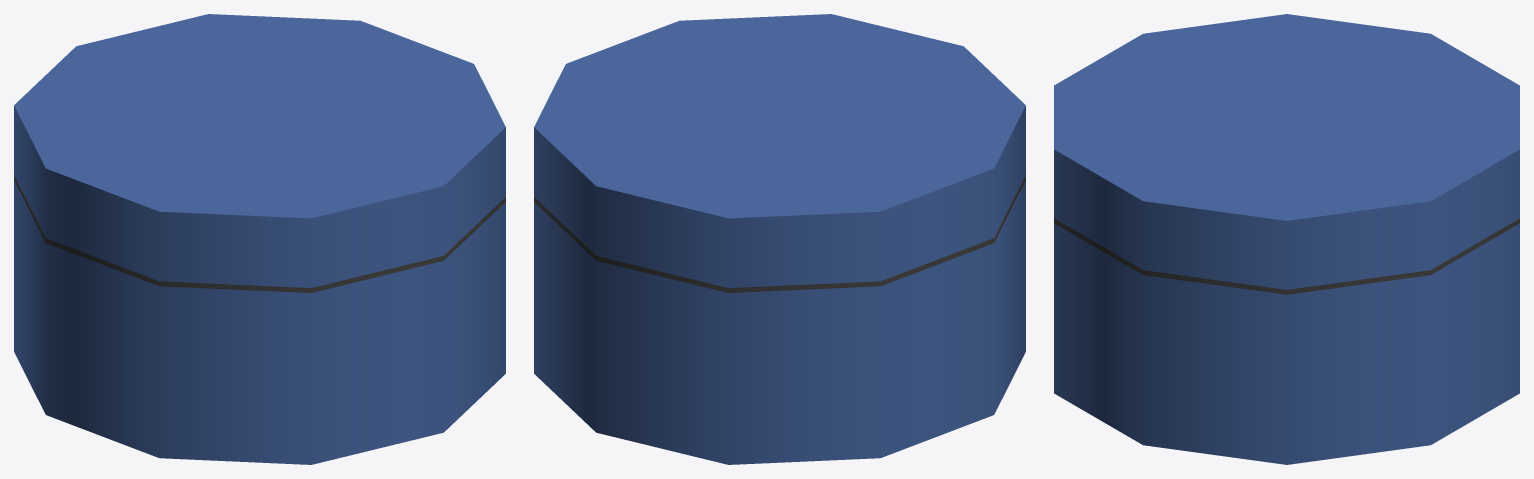
File: M_Gift_14.FBX
3 renders of one model, left to right at view 1: azimuth 30°, elevation 25°; view 2: azimuth 150°, elevation 25°; view 3: azimuth 270°, elevation 25°, orthographic.
Parts seen in each view (by area): view 1: Cylinder026; view 2: Cylinder026; view 3: Cylinder026.
Boxes of the visible parts, bbox=[...] form: Cylinder026: bbox=[14, 14, 505, 464]; Cylinder026: bbox=[534, 14, 1025, 464]; Cylinder026: bbox=[1054, 14, 1519, 464].
Bounding box in the file's own units: 61.6 × 33.87 × 58.59.
Materials: 1 (1 with a texture image).
